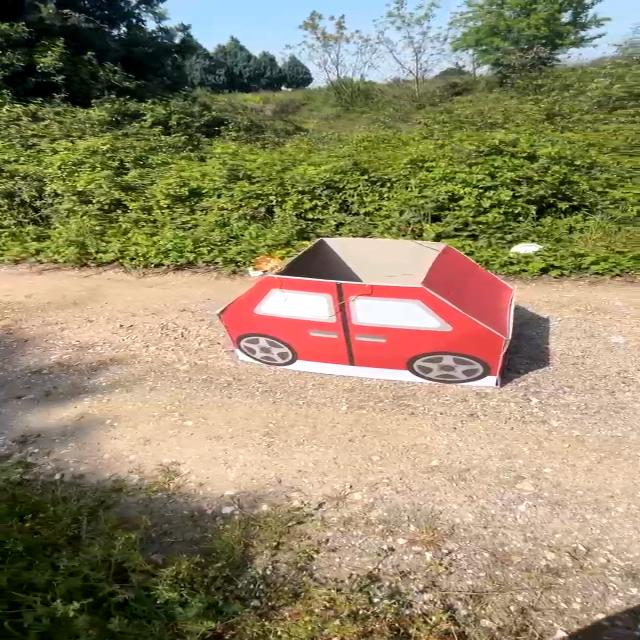red_car: (201, 232, 539, 394)
